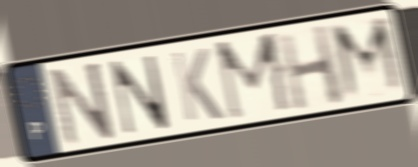H: (275, 21, 348, 114)
K: (168, 45, 227, 125)
M: (211, 28, 296, 125), (327, 13, 410, 105)
N: (46, 58, 119, 150), (108, 51, 173, 138)
